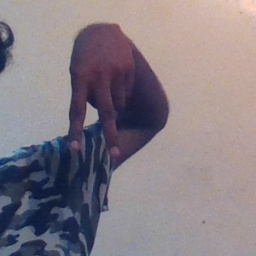Y: (56, 44, 145, 162)
